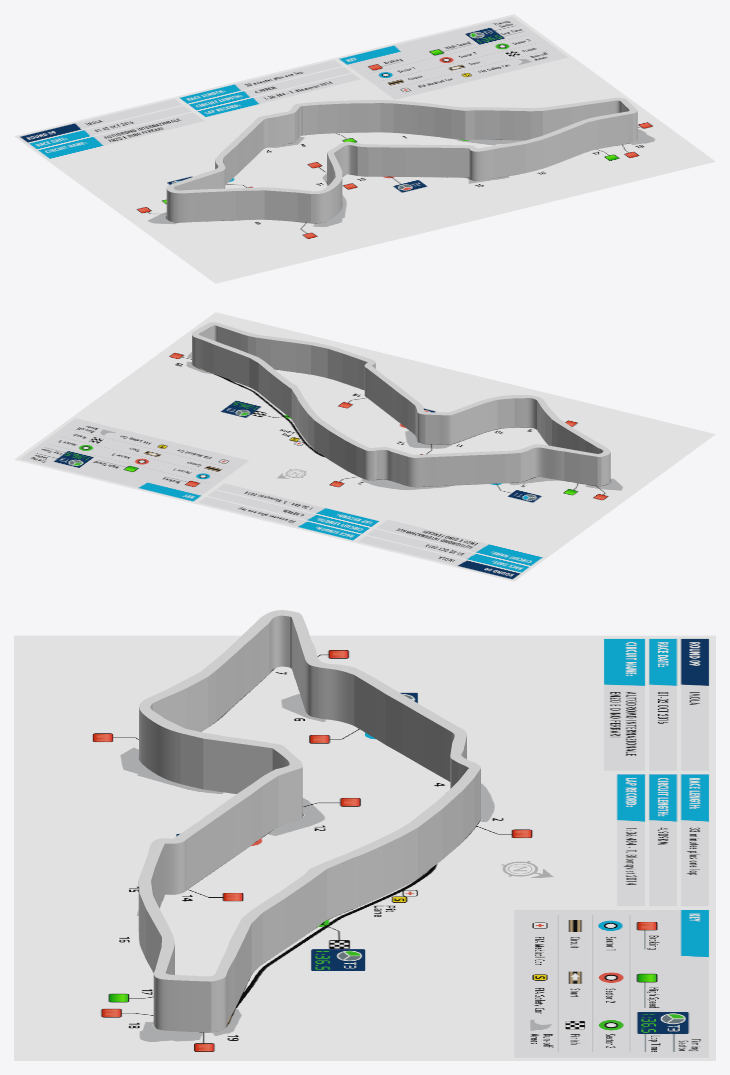
The model's file is Imola_PianoPista.fbx.
3 views of the same model, one above another, from view 1: azimuth 30°, elevation 25°; view 2: azimuth 150°, elevation 25°; view 3: azimuth 270°, elevation 25° (orthographic). The views are drawn at different scales.
Parts seen in each view (by area): view 1: Imola, imola; view 2: Imola, imola; view 3: Imola, imola.
Part boxes in pixels (left/top/right/bottom): Imola: left=14, top=14, right=715, bottom=283; imola: left=166, top=97, right=637, bottom=223; Imola: left=14, top=312, right=715, bottom=581; imola: left=192, top=322, right=610, bottom=487; Imola: left=14, top=635, right=715, bottom=1060; imola: left=138, top=610, right=480, bottom=1032.
Size of the model in its own units: 35.83 by 2 by 25.
Materials: 1 (1 with a texture image).
